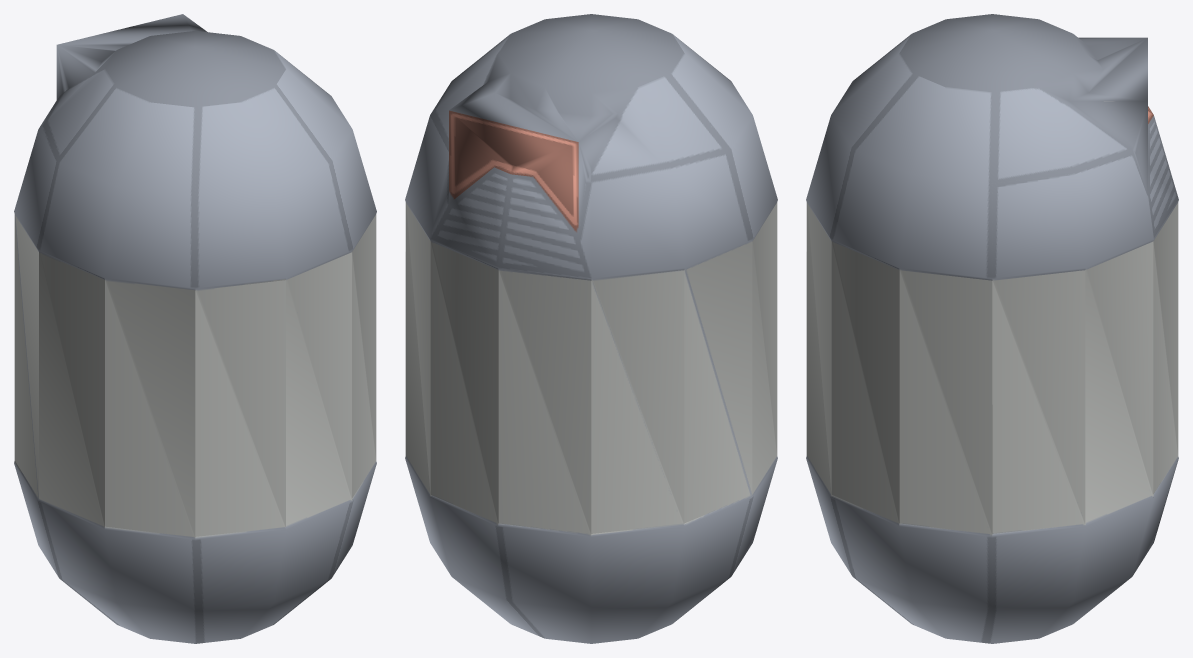
The model's file is CapsuleBot.fbx.
3 renders of one model, left to right at view 1: azimuth 30°, elevation 25°; view 2: azimuth 150°, elevation 25°; view 3: azimuth 270°, elevation 25°, orthographic. The views are drawn at different scales.
Visible parts, largest first — view 1: CSGCombiner; view 2: CSGCombiner; view 3: CSGCombiner.
Part boxes in pixels (box(x1,y1,x2,y2)): CSGCombiner: box(14, 14, 376, 643); CSGCombiner: box(405, 14, 777, 643); CSGCombiner: box(806, 14, 1178, 643).
Bounding box in the file's own units: 152 × 268 × 152.
Materials: 1 (1 with a texture image).
